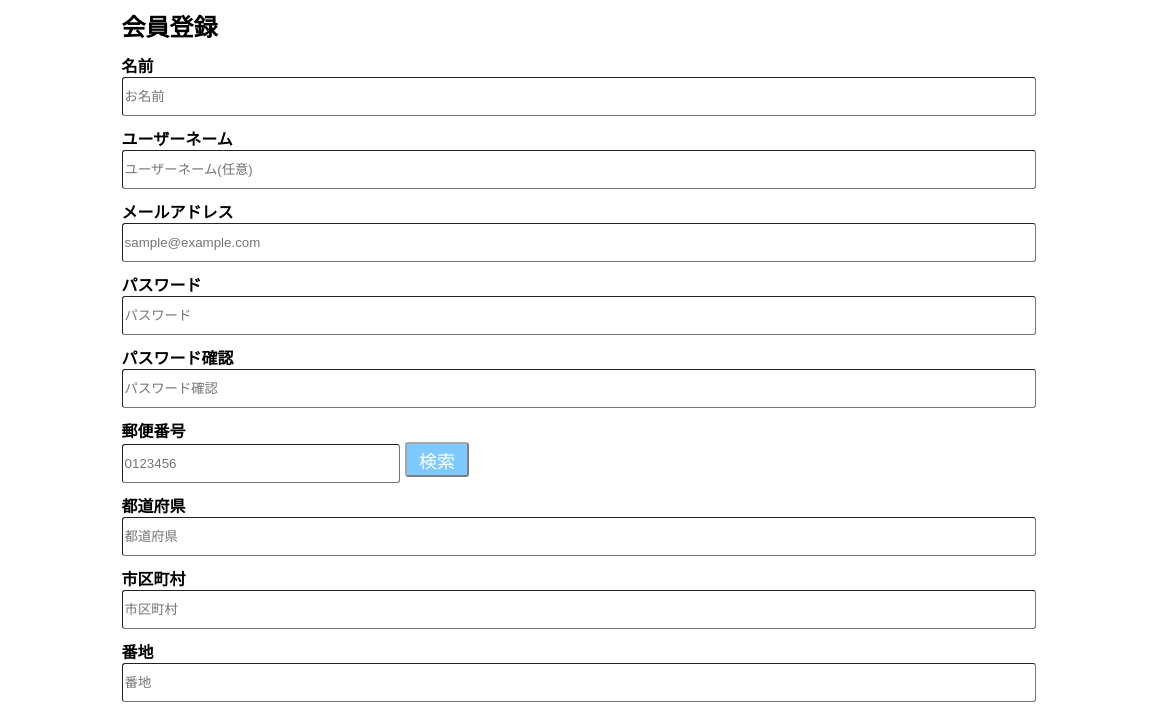
Test: hookForm › パスワード確認 バリデーション
In the field with placeholder "パスワード": (579, 316) top-left (122, 296), bottom-right (1036, 335), type "1234"
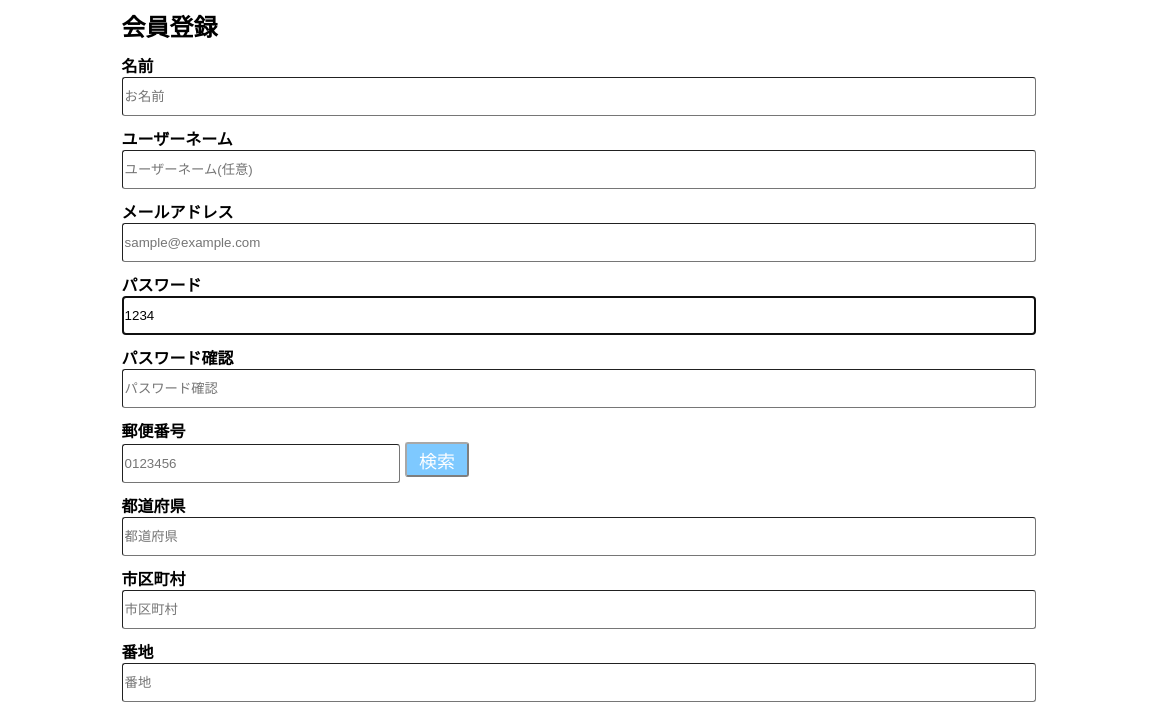
In the field with placeholder "パスワード確認": (579, 388) top-left (122, 369), bottom-right (1036, 408), type "5678"
(page scrolled)
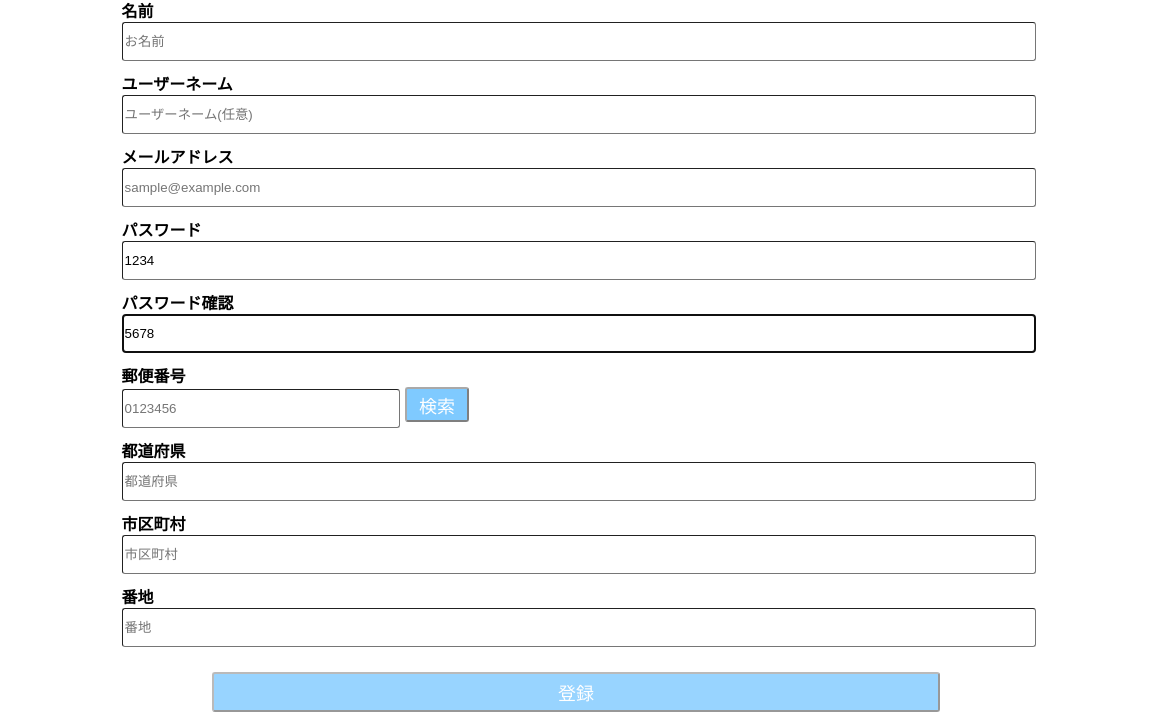
Click the button "登録": (576, 692) top-left (212, 672), bottom-right (940, 712)
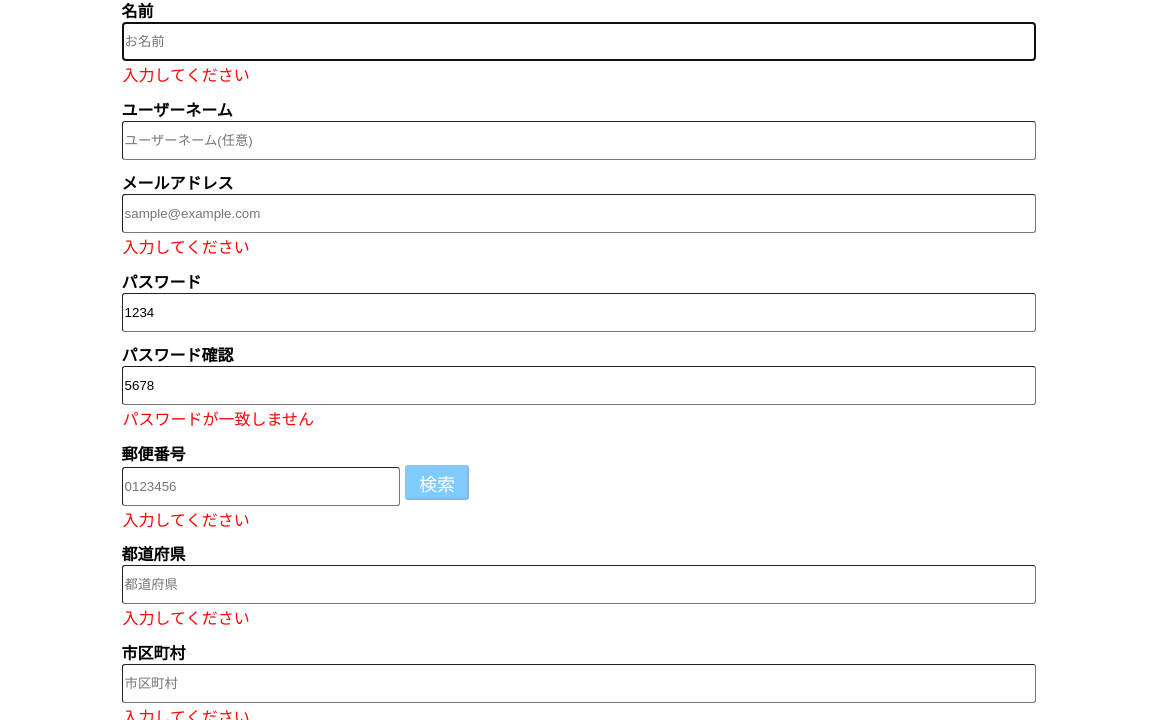
Expected: the text "パスワードが一致しません" is shown, top-left (123, 411), bottom-right (314, 428)
